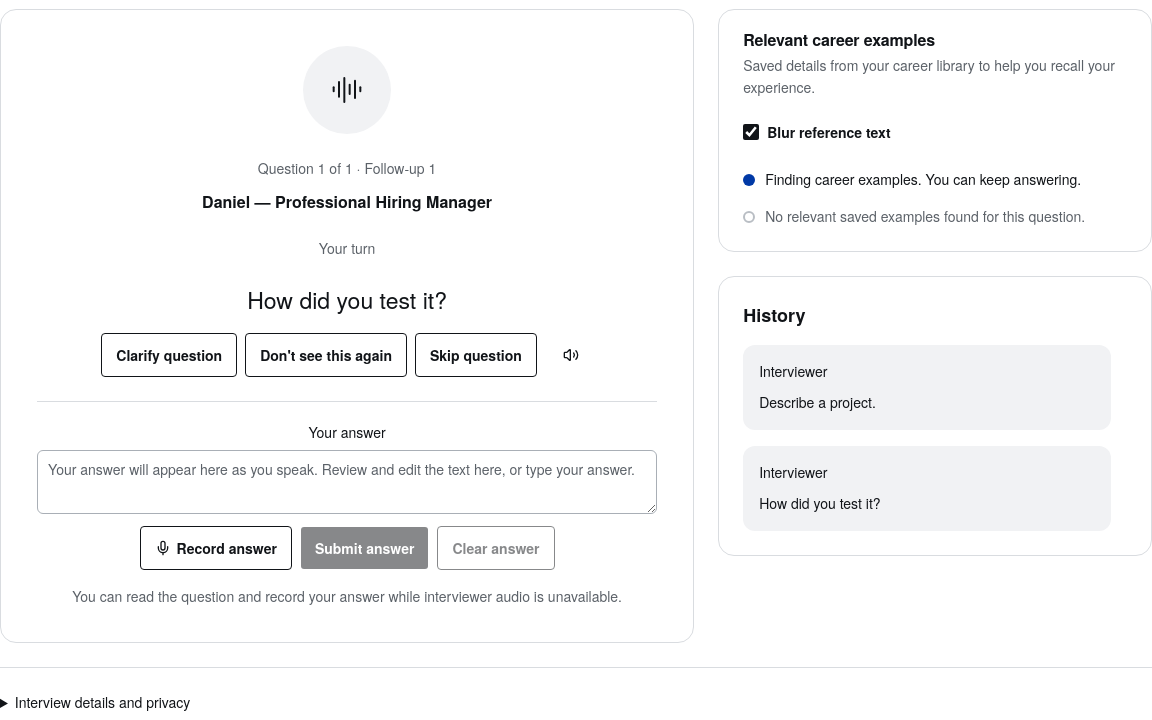
it: InterviewPage › clarifies the latest follow-up while preserving typed draft and progress
(page scrolled)
Type "I wrote tests and reviewed the results." into the text box labelled "Your answer". click: point(347, 482)
box: left=37, top=450, right=657, bottom=514
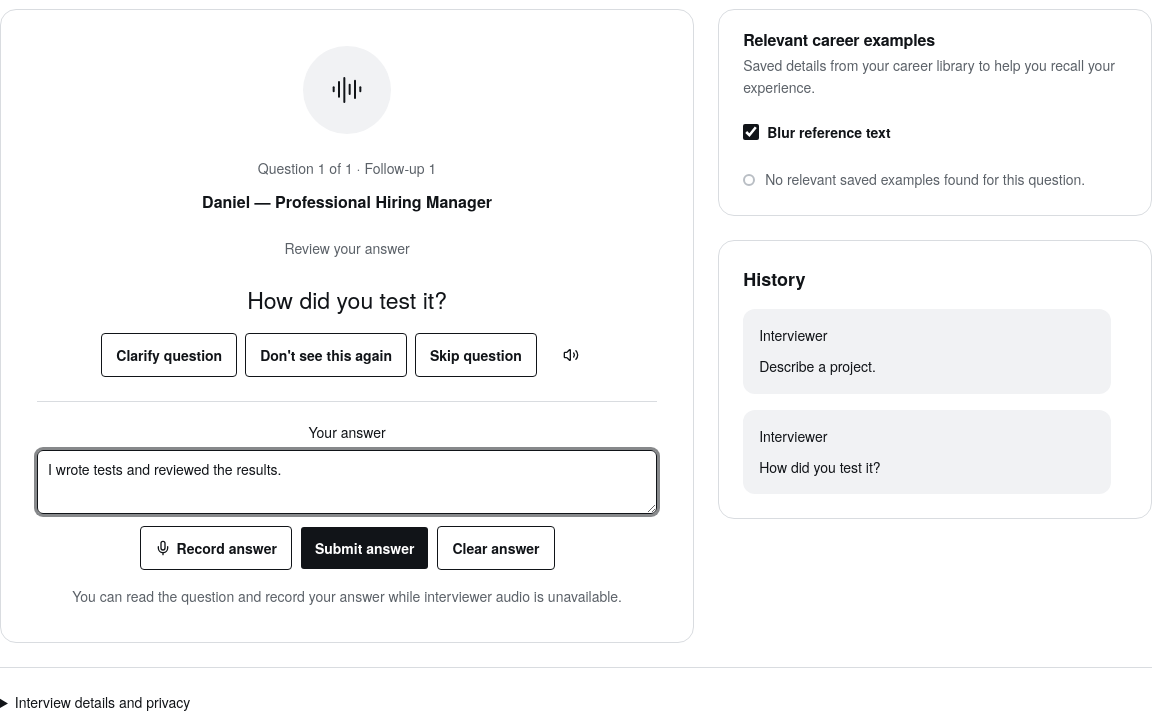
Click the button "Clarify question". click: point(169, 355)
box: left=101, top=333, right=237, bottom=377
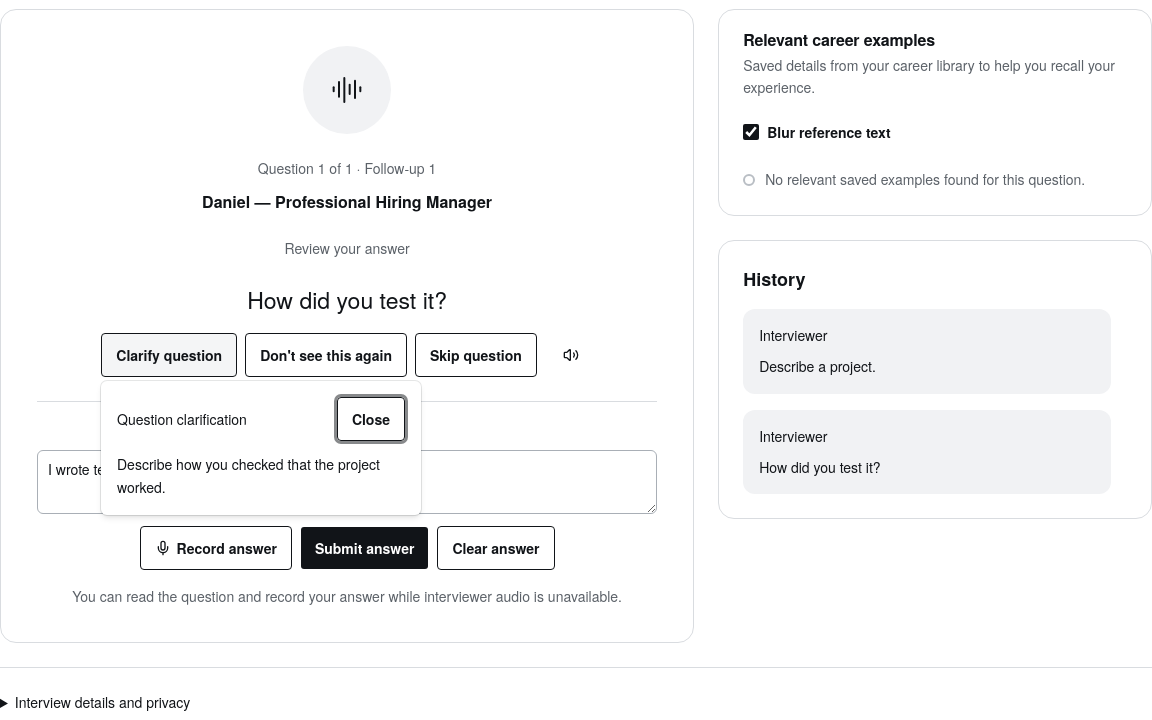
Expected: the text "Describe a project." is shown, left=759, top=356, right=876, bottom=376
Expected: the text "Describe how you checked that the project worked." is shown, left=117, top=453, right=405, bottom=498
